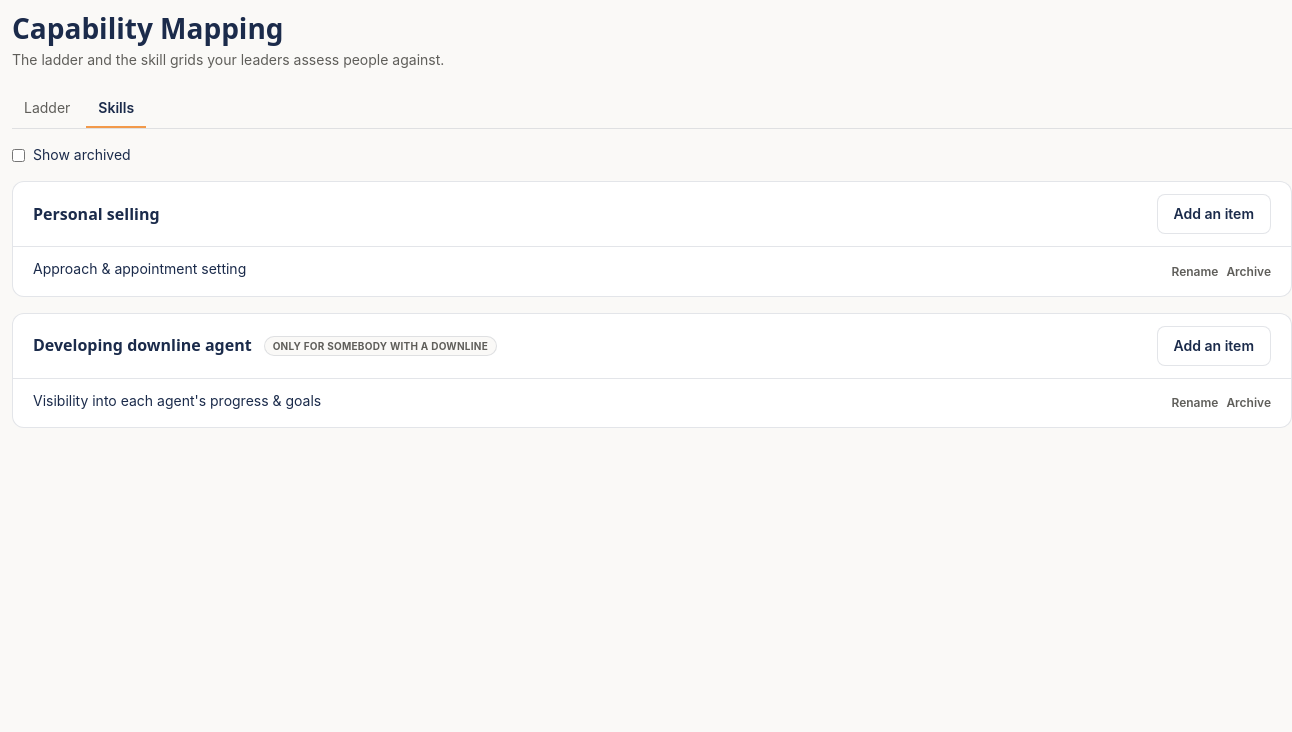
the capability catalog screen › says what the server refused, and keeps the row open to fix it
Expected: the heading "Personal selling" is shown, [33,203,160,226]
Click the button "Add an item" in the row of "Personal selling" at [1214, 214], box [1156,194,1271,234]
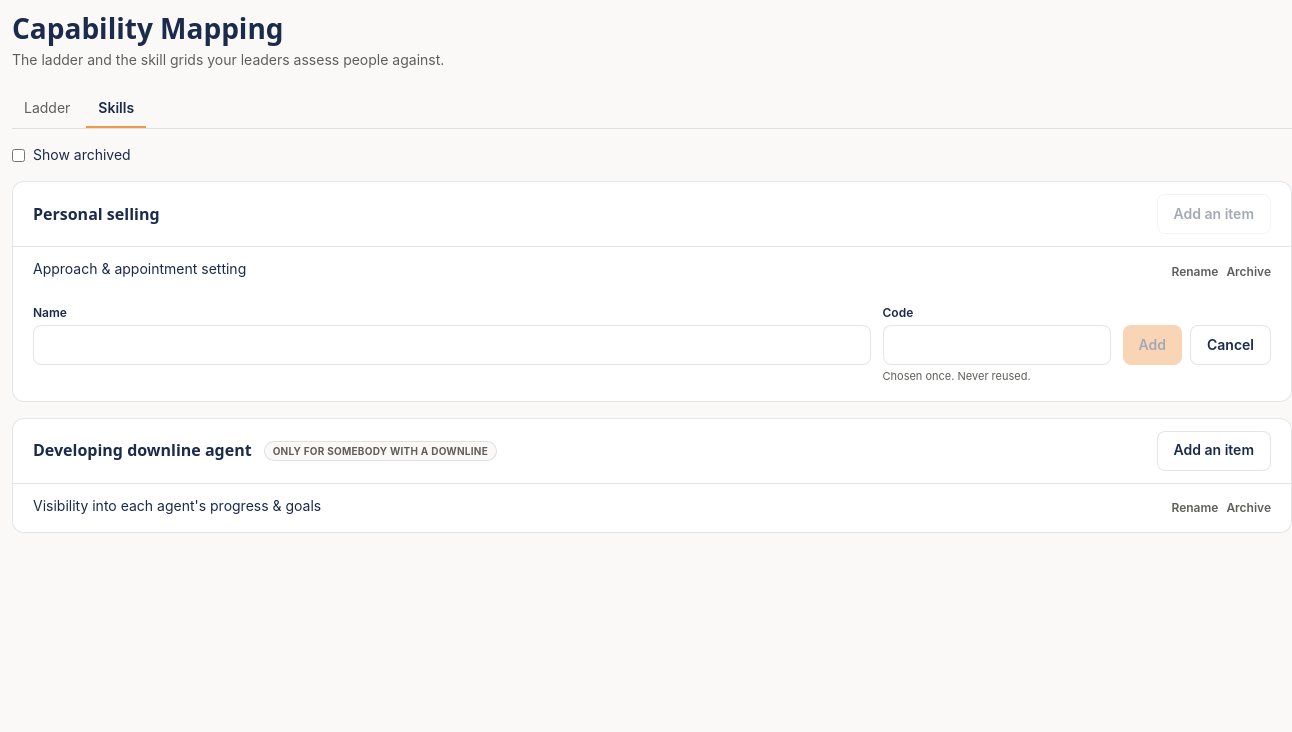
Type "Approach" into the field labelled "Name" at [452, 345], box [33,325,870,365]
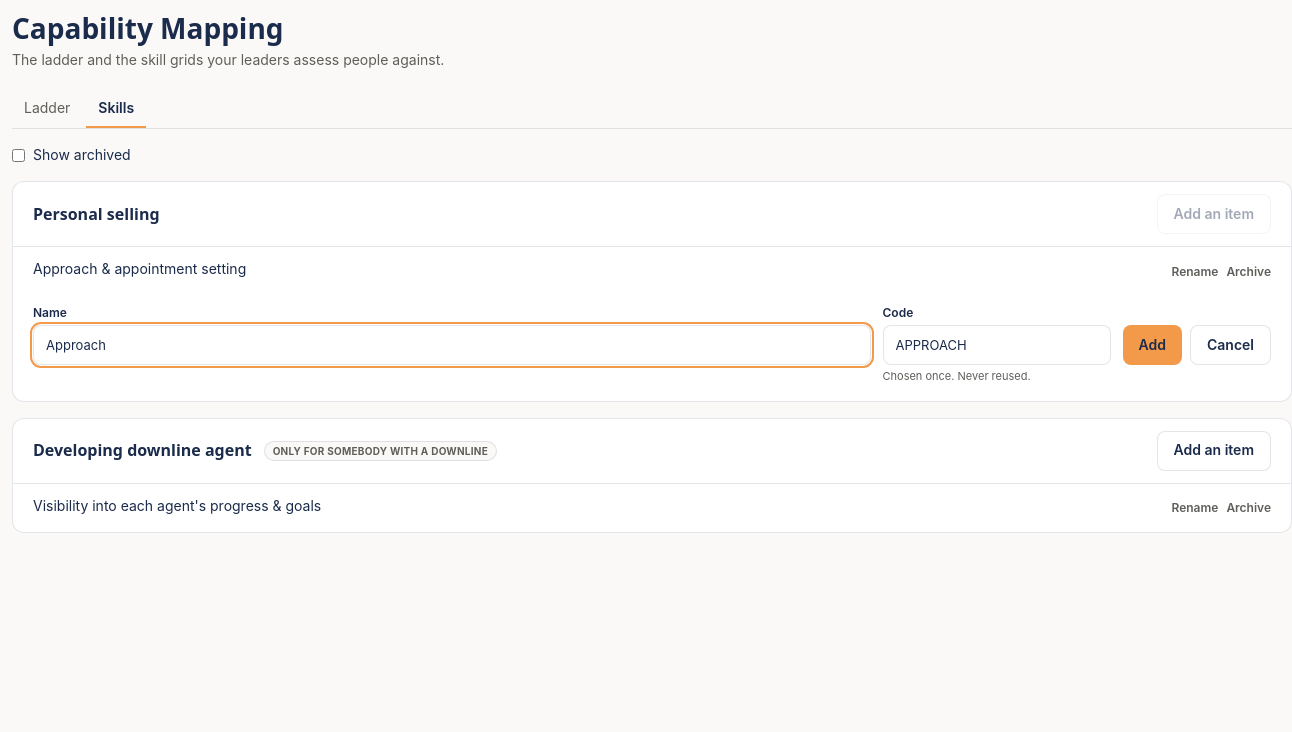
Click the button "Add" at [1152, 345], box [1122,325,1182,365]
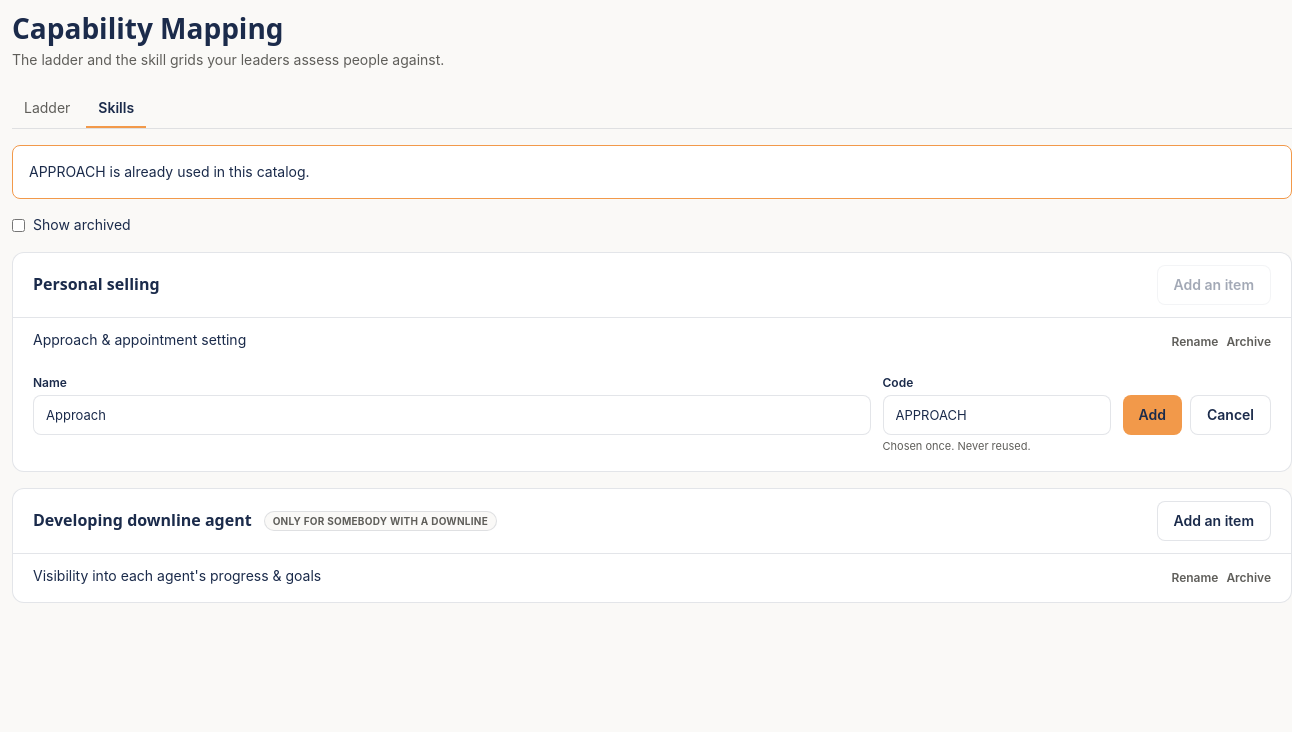
Expected: the message shows "already used in this catalog", [29,163,310,180]
